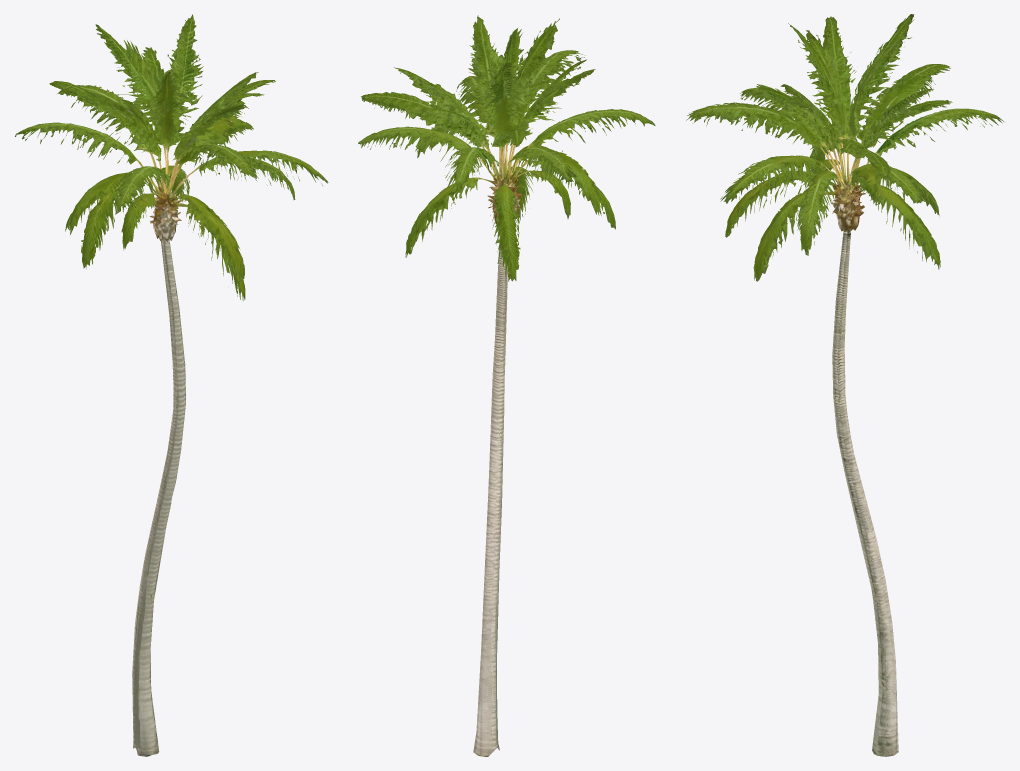
File: areca.glb
3 views of the same model, side by side, from view 1: azimuth 30°, elevation 25°; view 2: azimuth 150°, elevation 25°; view 3: azimuth 270°, elevation 25° (orthographic). The views are drawn at different scales.
Size of the model in its own units: 0.6581 by 1.89 by 0.7673.
Materials: 1 (1 with a texture image).
